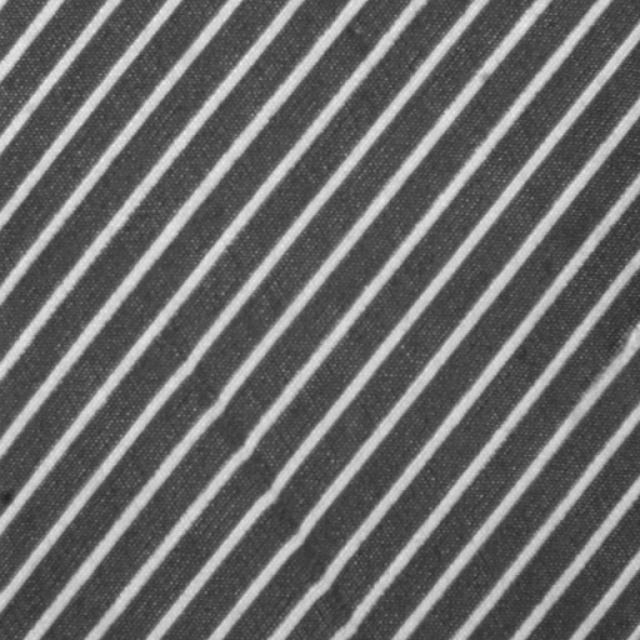Thread-Defect: (123, 281, 375, 639)
